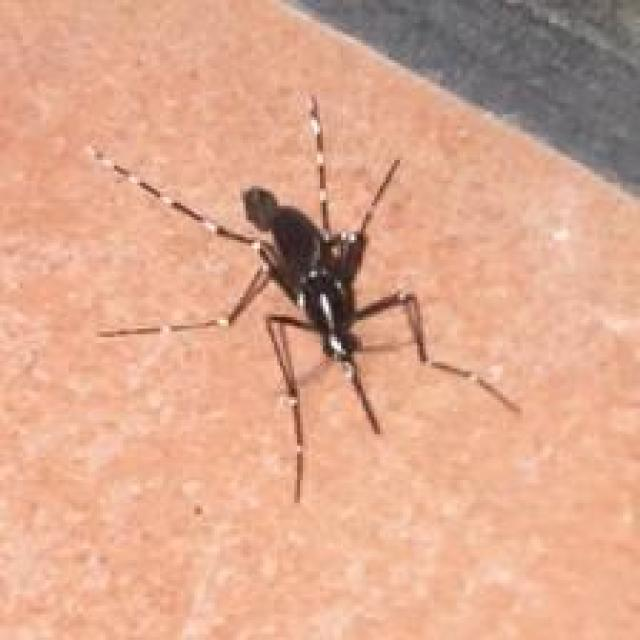Aedes albopictus: (86, 90, 523, 504)
